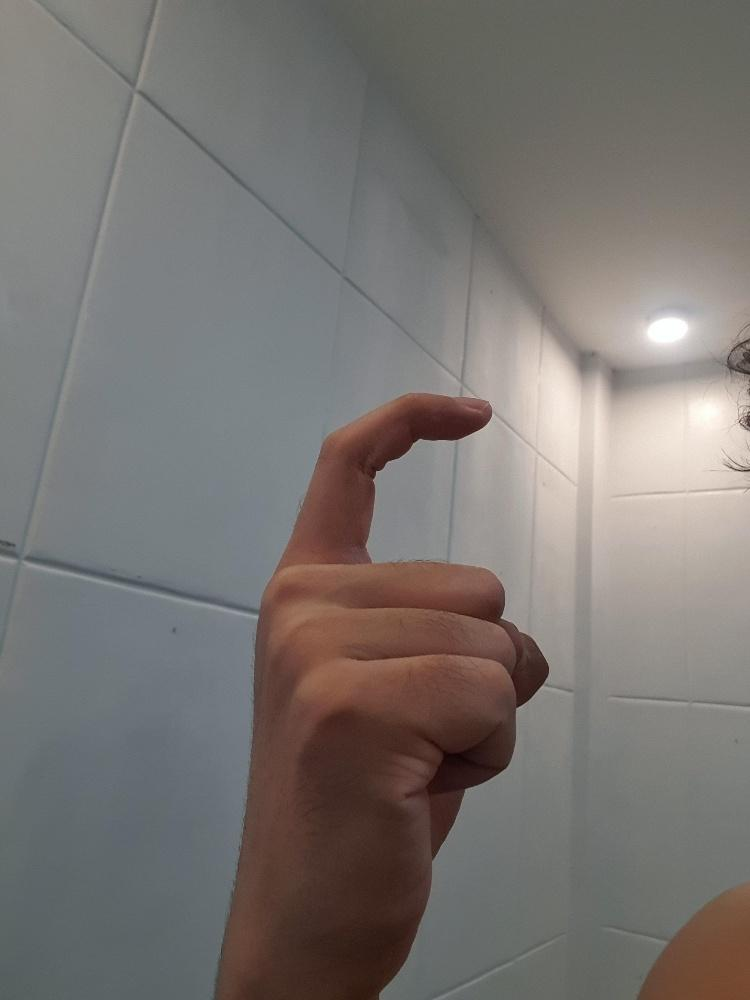x: (228, 387, 554, 997)
